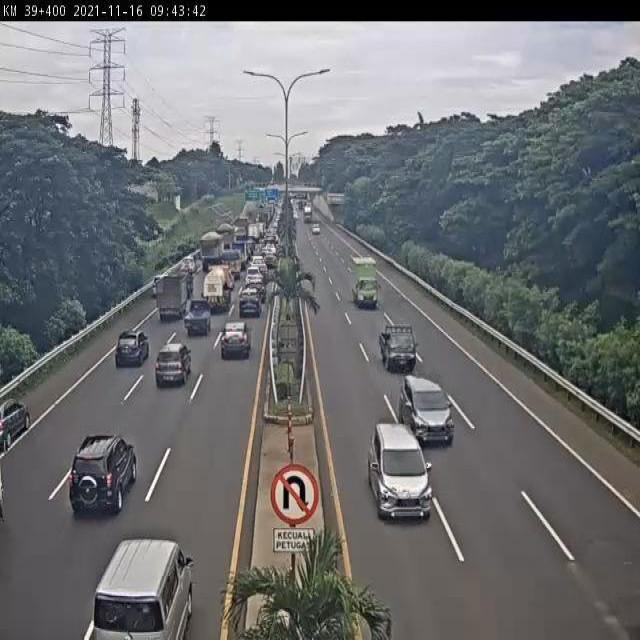car: (89, 536, 198, 640), (365, 419, 435, 531), (63, 431, 138, 531), (396, 373, 458, 448), (377, 318, 420, 374), (0, 395, 40, 453), (153, 339, 192, 389), (112, 324, 150, 369), (219, 318, 253, 362), (183, 297, 213, 340), (237, 289, 263, 319), (244, 275, 267, 304), (177, 252, 198, 276), (244, 265, 264, 288), (251, 253, 266, 272), (264, 251, 278, 268)
truck: (153, 270, 192, 326), (348, 255, 383, 315), (203, 263, 234, 313), (198, 232, 226, 276), (220, 248, 244, 280), (216, 219, 236, 248)
